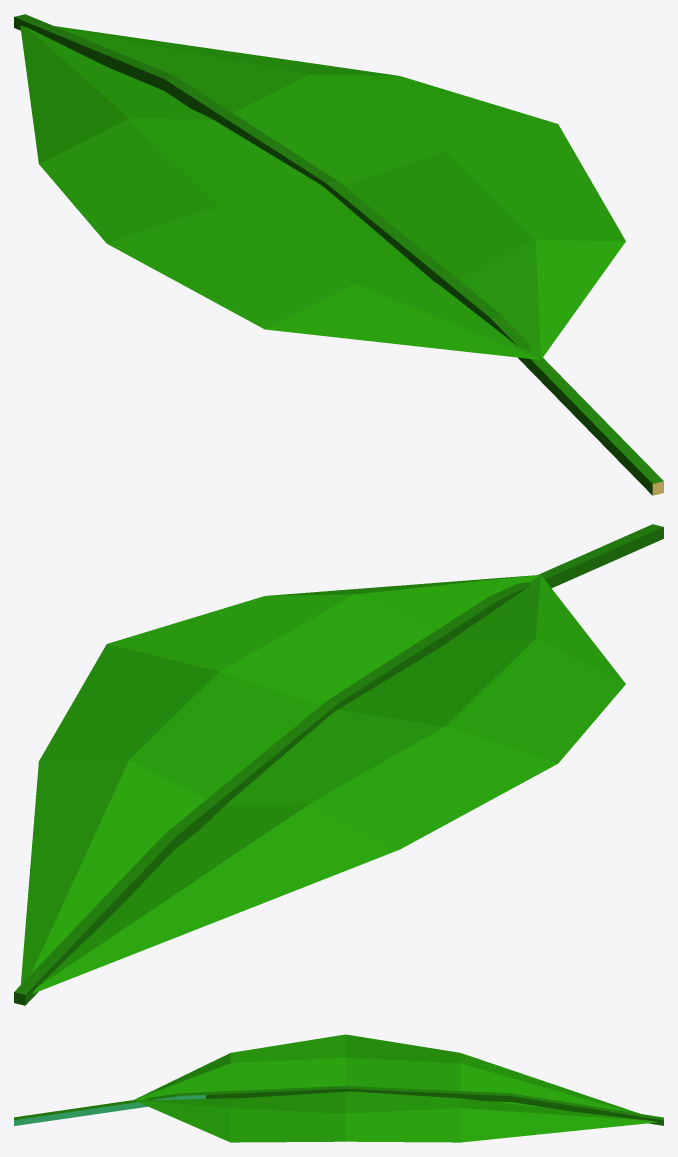
Rendered from test leaf.fbx.
3 views of the same model, one above another, from view 1: azimuth 30°, elevation 25°; view 2: azimuth 150°, elevation 25°; view 3: azimuth 270°, elevation 25° (orthographic). The views are drawn at different scales.
Visible parts, largest first — view 1: plane, cuboid; view 2: plane, cuboid; view 3: plane, cuboid.
Part boxes in pixels (bbox=[...]): plane: bbox=[20, 25, 625, 359]; cuboid: bbox=[14, 14, 663, 495]; plane: bbox=[20, 575, 625, 993]; cuboid: bbox=[14, 524, 663, 1005]; plane: bbox=[134, 1034, 656, 1142]; cuboid: bbox=[14, 1086, 663, 1125].
Bounding box in the file's own units: 6.25 × 1.02 × 15.31.
1 material, 1 textured.
